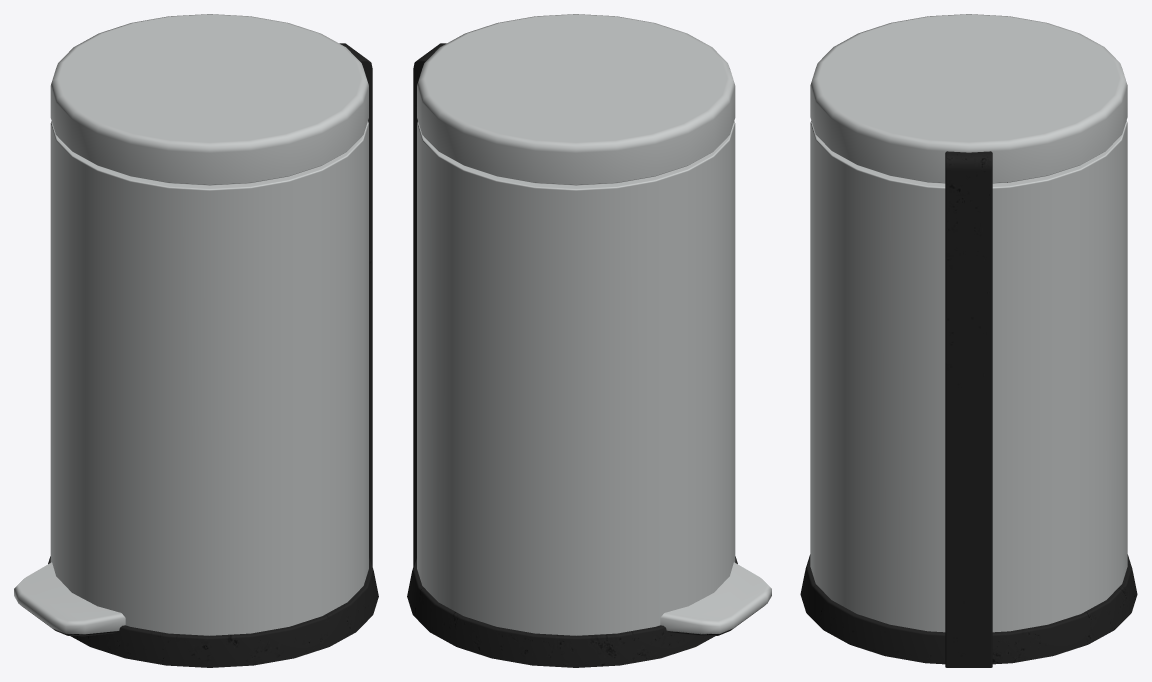
Rendered from SM_Trash_8L.fbx.
3 views of the same model, side by side, from view 1: azimuth 30°, elevation 25°; view 2: azimuth 150°, elevation 25°; view 3: azimuth 270°, elevation 25° (orthographic).
Visible parts, largest first — view 1: SM_Trash_8L_LOD0; view 2: SM_Trash_8L_LOD0; view 3: SM_Trash_8L_LOD0.
Boxes of the visible parts, x1,y1,x2,y2 form: SM_Trash_8L_LOD0: [14, 14, 378, 667]; SM_Trash_8L_LOD0: [407, 14, 771, 667]; SM_Trash_8L_LOD0: [800, 14, 1137, 667].
Size of the model in its own units: 23.65 by 21.25 by 35.89.
Materials: 1 (1 with a texture image).
